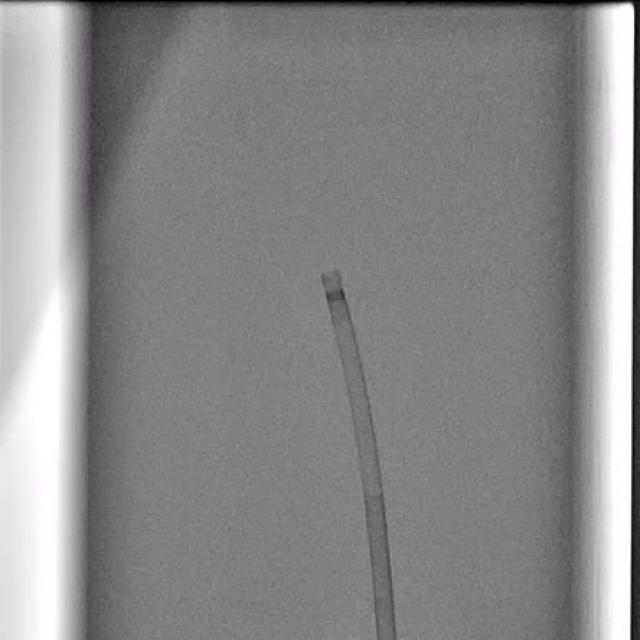bend: (362, 481, 383, 495)
entry: (378, 634, 396, 640)
marker: (325, 289, 347, 303)
tip: (320, 269, 340, 276)
